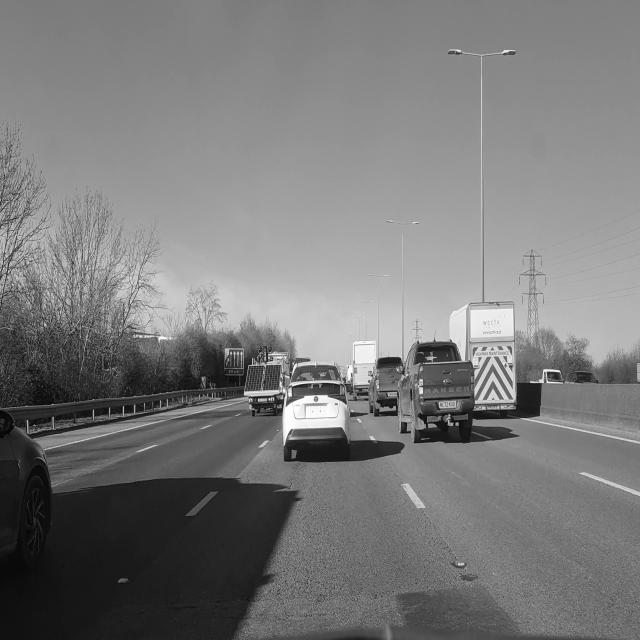car: (395, 338, 477, 447), (0, 411, 52, 568), (283, 362, 350, 461), (369, 357, 402, 416)
